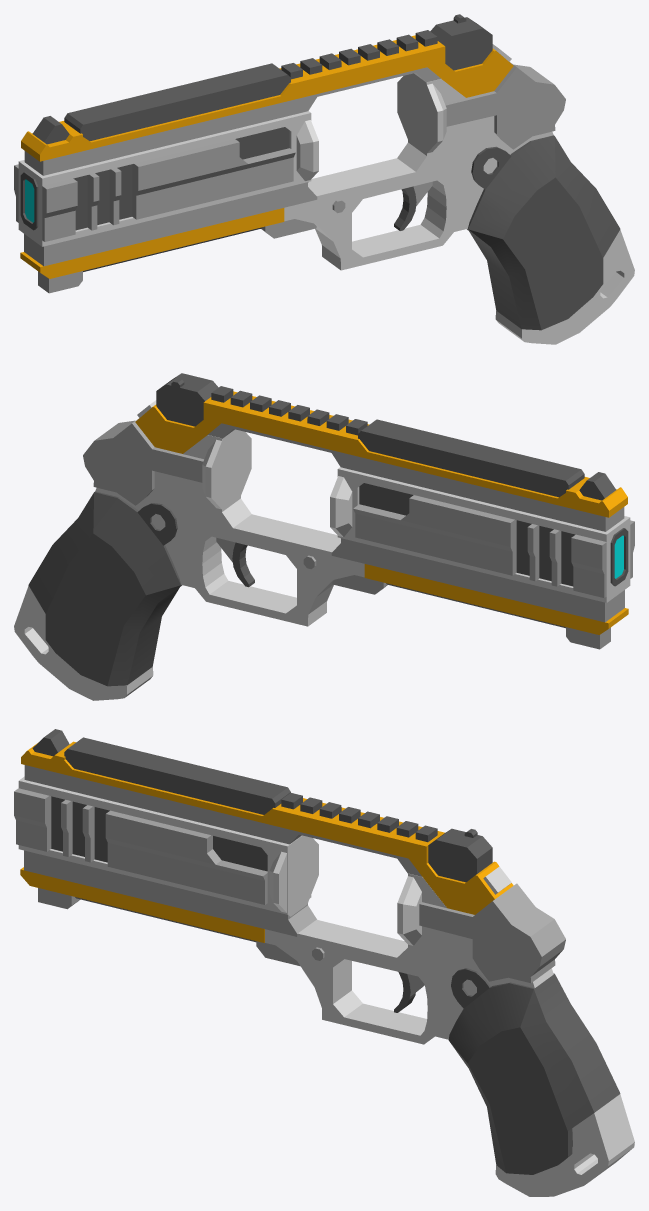
The model's file is little_gun.fbx.
3 renders of one model, top to bottom at view 1: azimuth 30°, elevation 25°; view 2: azimuth 150°, elevation 25°; view 3: azimuth 330°, elevation 25°, orthographic.
Visible parts, largest first — view 1: SM_REV01; view 2: SM_REV01; view 3: SM_REV01.
Part boxes in pixels (x1,y1,x2,y2): SM_REV01: (14, 14, 634, 344); SM_REV01: (14, 373, 634, 700); SM_REV01: (14, 729, 634, 1196).
Size of the model in its own units: 33.23 by 17.86 by 3.89.
